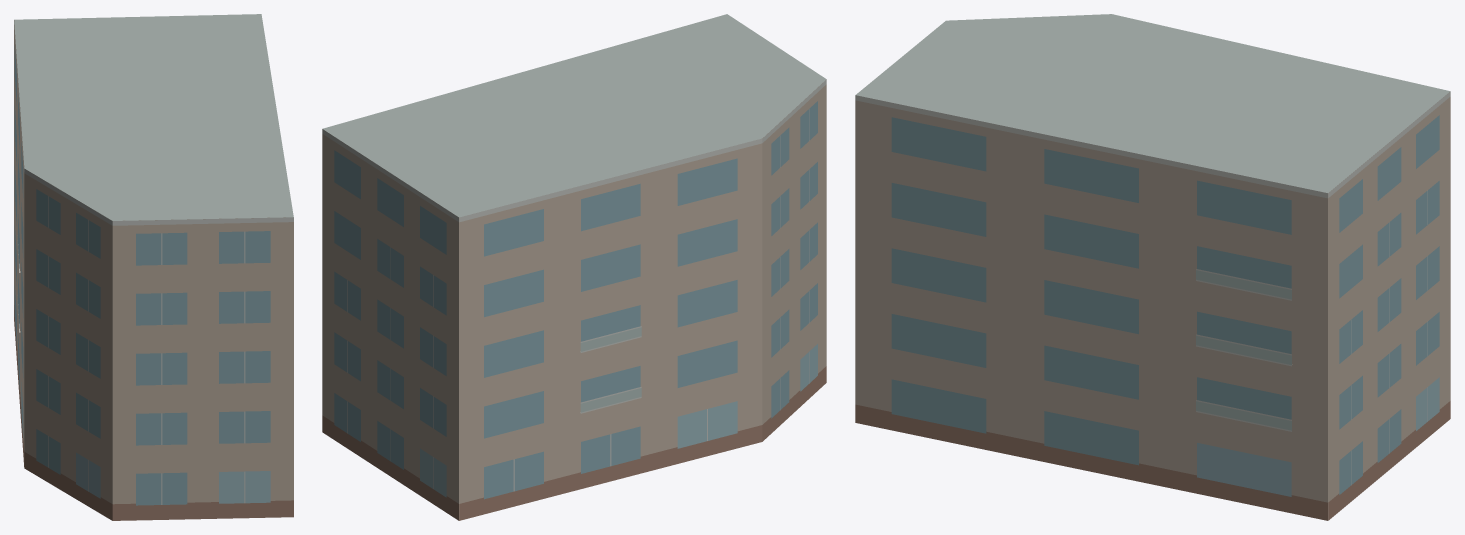
The model's file is survey-upis-32772025.glb.
The picture shows the model from 3 angles, left to right: view 1: azimuth 30°, elevation 25°; view 2: azimuth 150°, elevation 25°; view 3: azimuth 270°, elevation 25°; orthographic projection. The views are drawn at different scales.
Visible parts, largest first — view 1: survey-upis-32772025.tmp; view 2: survey-upis-32772025.tmp; view 3: survey-upis-32772025.tmp.
Boxes of the visible parts, box(x1,y1,x2,y2) form: survey-upis-32772025.tmp: box(14, 14, 293, 520); survey-upis-32772025.tmp: box(322, 14, 826, 520); survey-upis-32772025.tmp: box(855, 14, 1450, 520).
Bounding box in the file's own units: 17.9 × 15.25 × 25.11.
